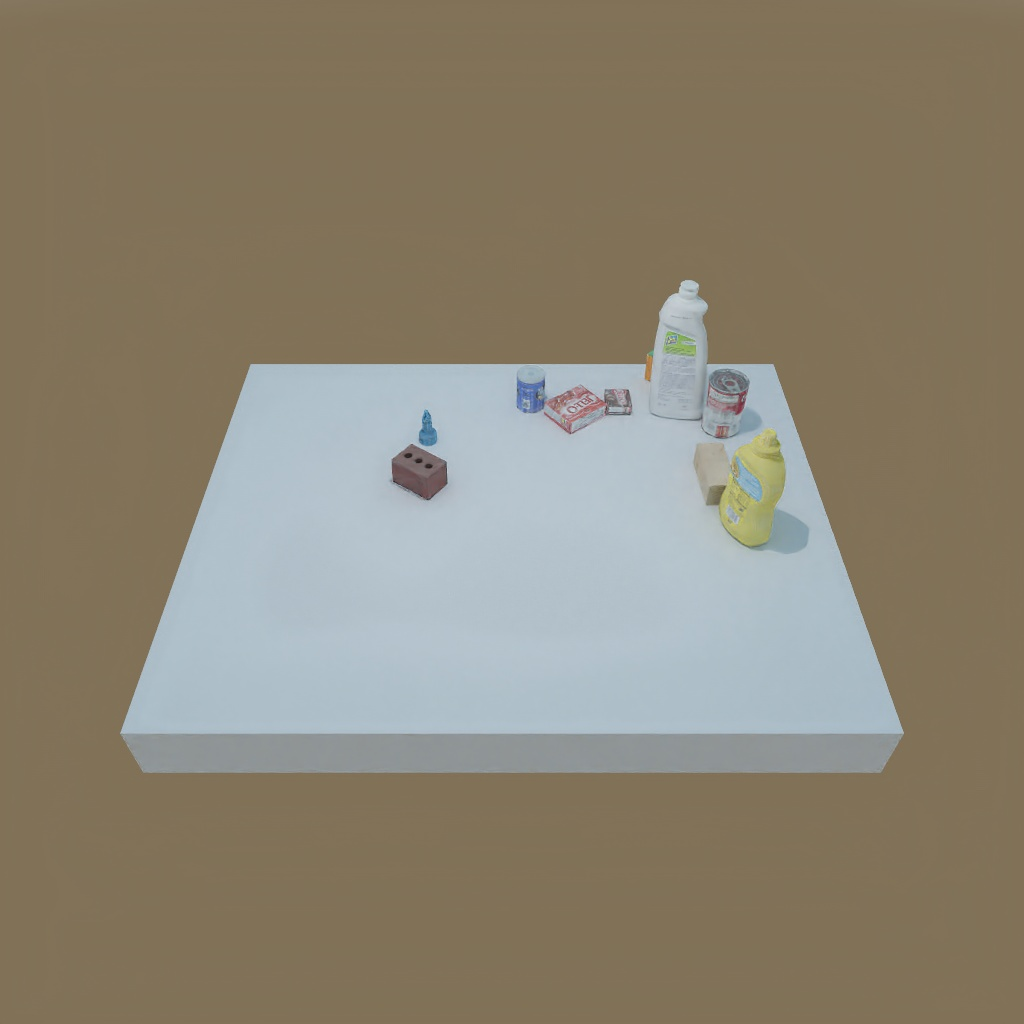gelatin_box: (542, 385, 605, 438)
master_chef_can: (513, 363, 553, 418)
mustard_bottle: (726, 428, 775, 551)
pudding_box: (599, 382, 636, 417)
tomato_soup_can: (699, 369, 751, 440)
wood_block: (691, 440, 741, 502)
